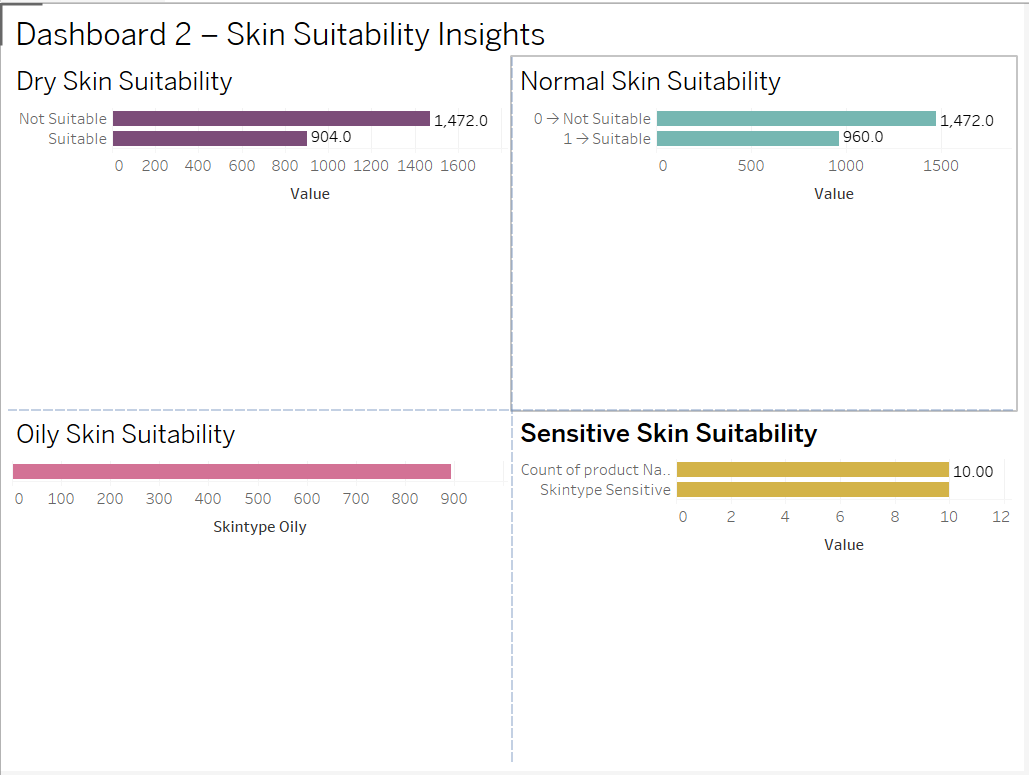

The dashboard page shown, as its layout file describes it:
{"tool":"tableau","page":{"name":"Dashboard 2","canvas":[1024,768],"ordinal":1},"visuals":[{"type":"worksheet","title":"Sheet 5","mark":"Automatic","box":[8,8,504,376]},{"type":"worksheet","title":"Sheet 6","mark":"Automatic","box":[512,8,504,376]},{"type":"worksheet","title":"Sheet 7","mark":"Automatic","cols":["Oily"],"box":[8,384,504,376]},{"type":"worksheet","title":"Sheet 4","mark":"Automatic","box":[512,384,504,376]}]}

Visuals, with their boxes in screenshot pixels (x1, y1, x2, y2), scaled from the page's 1024x768 canvas onto the 1029x775 screenshot:
"Sheet 5" worksheet: <box>8,8,514,388</box>
"Sheet 6" worksheet: <box>514,8,1021,388</box>
"Sheet 7" worksheet: <box>8,388,514,767</box>
"Sheet 4" worksheet: <box>514,388,1021,767</box>
